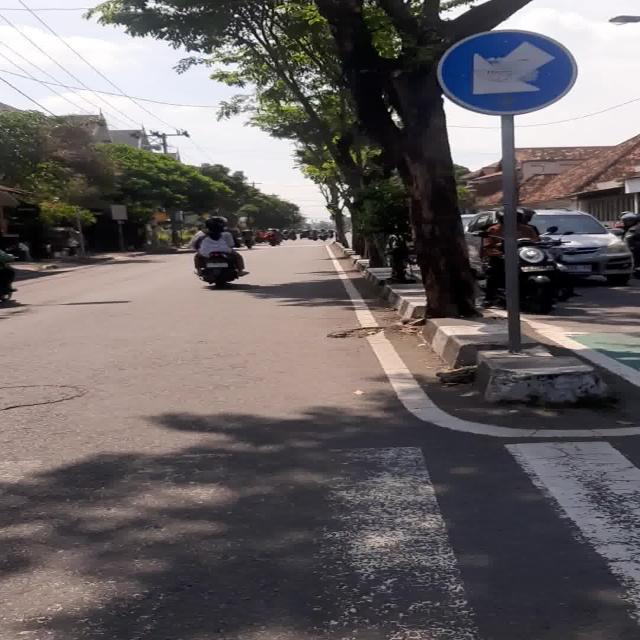Lajur Kiri: (437, 29, 577, 115)
